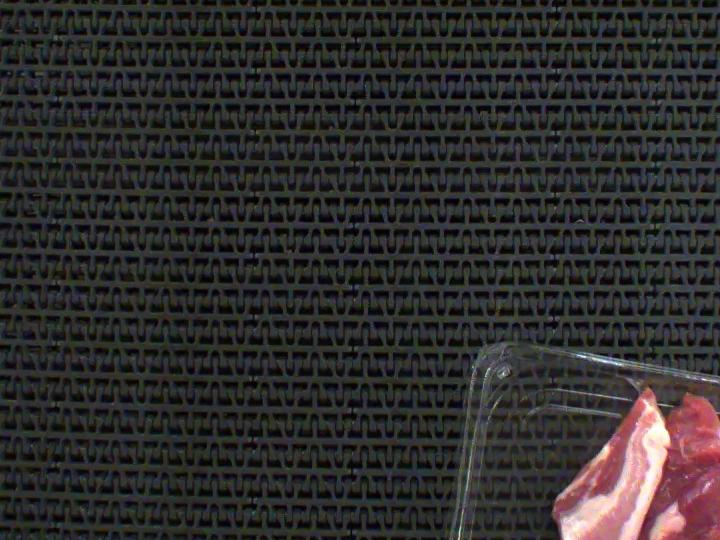packaging-error: (624, 370, 660, 402)
